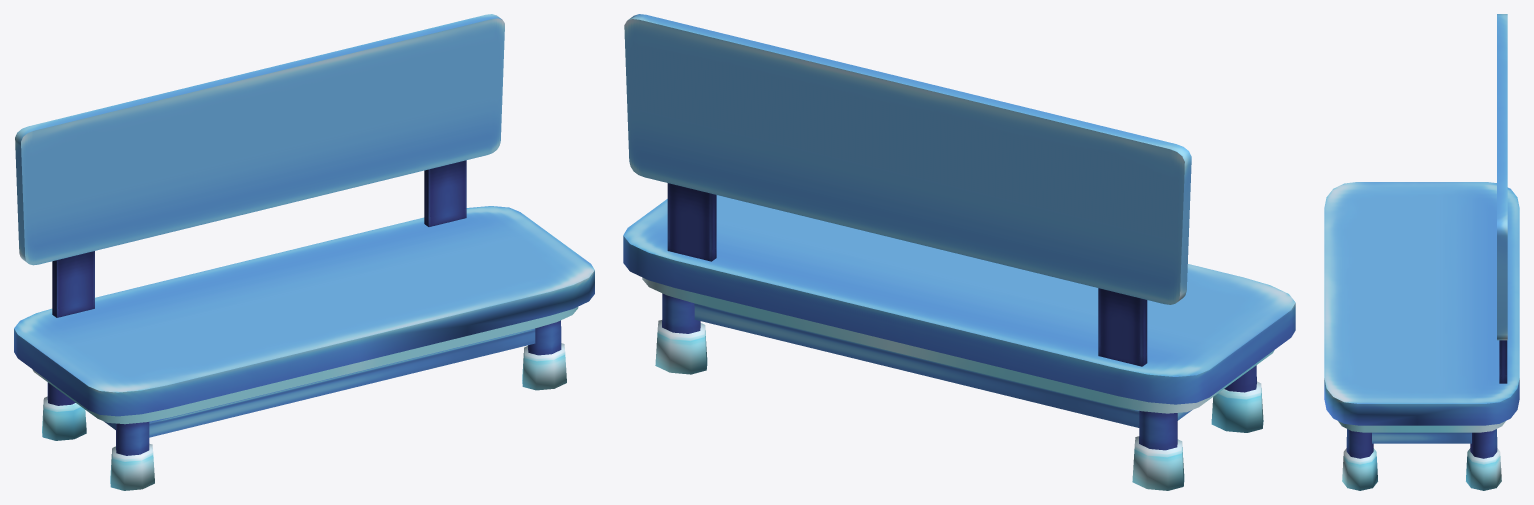
Rendered from BlueBench_HD.fbx.
The picture shows the model from 3 angles, left to right: view 1: azimuth 30°, elevation 25°; view 2: azimuth 150°, elevation 25°; view 3: azimuth 270°, elevation 25°; orthographic projection. The views are drawn at different scales.
Visible parts, largest first — view 1: BlueBench; view 2: BlueBench; view 3: BlueBench.
Boxes of the visible parts, bbox=[...] form: BlueBench: bbox=[14, 14, 594, 490]; BlueBench: bbox=[623, 14, 1295, 490]; BlueBench: bbox=[1324, 14, 1519, 490].
Bounding box in the file's own units: 1.93 × 1.11 × 0.718.
